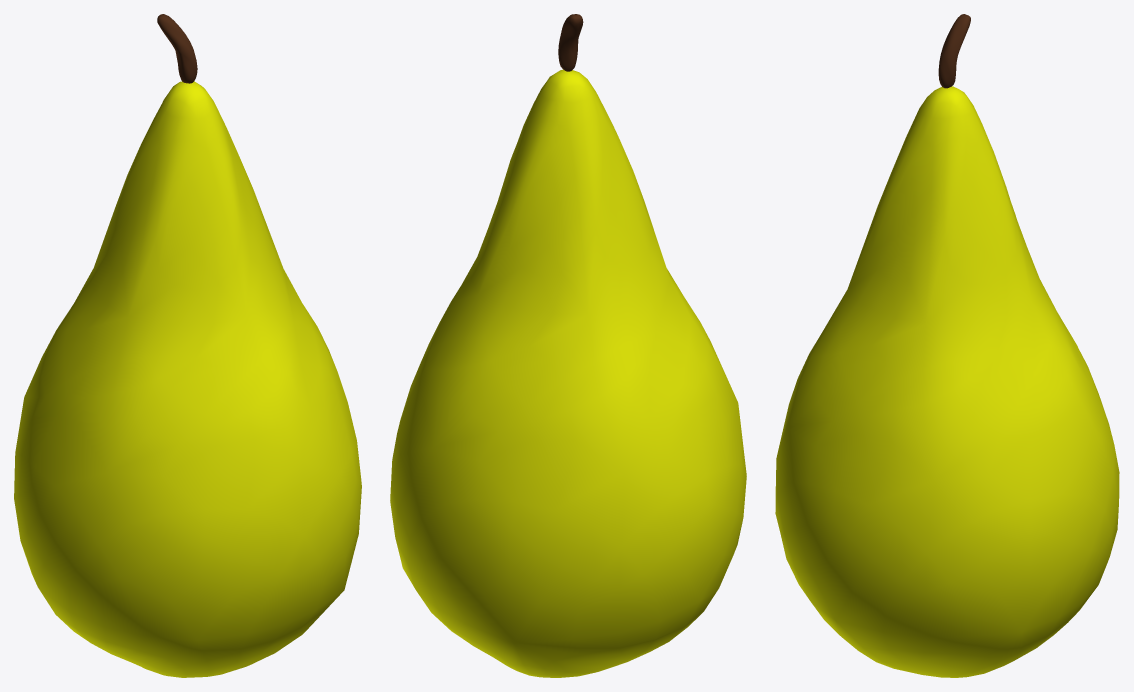
The model's file is Pear_good.fbx.
3 views of the same model, side by side, from view 1: azimuth 30°, elevation 25°; view 2: azimuth 150°, elevation 25°; view 3: azimuth 270°, elevation 25° (orthographic). The views are drawn at different scales.
Parts seen in each view (by area): view 1: polySurface21, polySurface22; view 2: polySurface21, polySurface22; view 3: polySurface21, polySurface22.
Boxes of the visible parts, box(x1,y1,x2,y2) form: polySurface21: box(14, 81, 361, 677); polySurface22: box(157, 14, 197, 83); polySurface21: box(390, 69, 746, 677); polySurface22: box(558, 14, 583, 71); polySurface21: box(775, 86, 1119, 677); polySurface22: box(938, 14, 970, 88).
Size of the model in its own units: 0.8591 by 1.76 by 0.8583.
